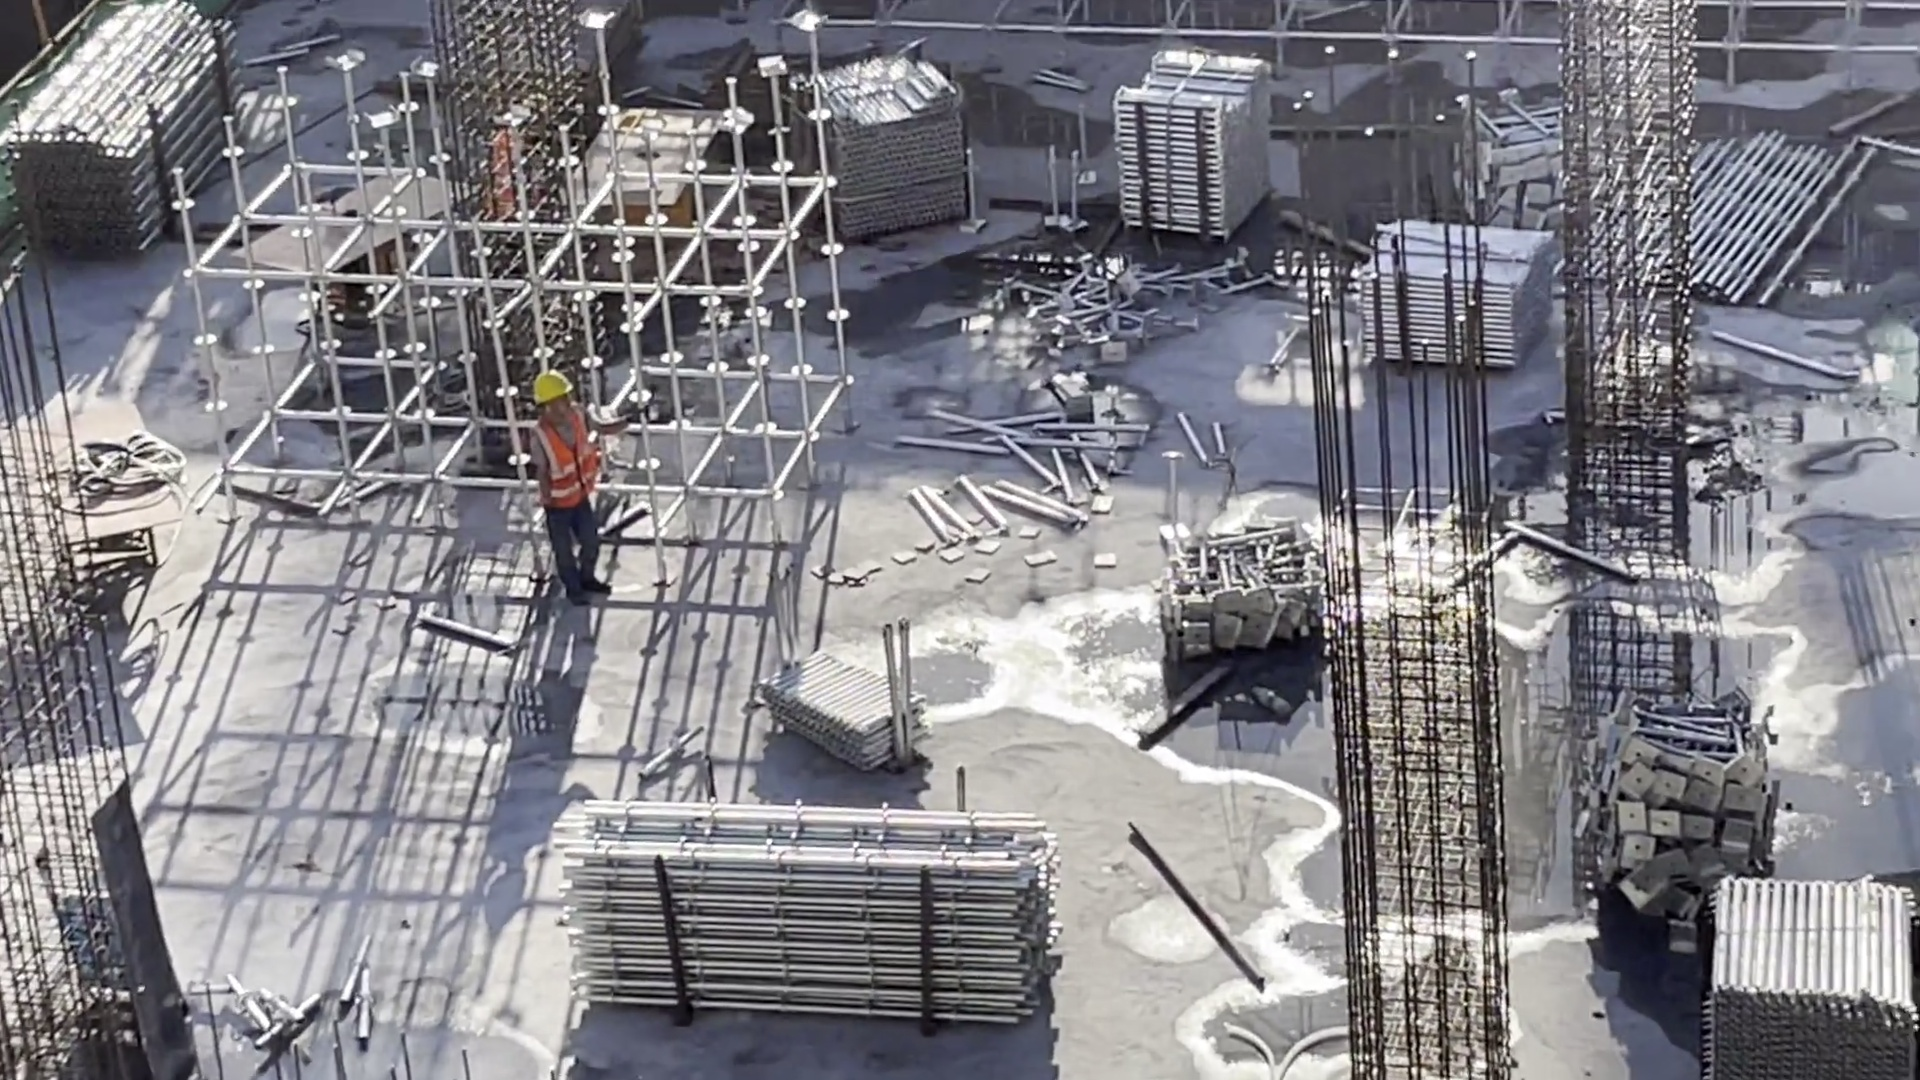cutter: (229, 157, 460, 371), (11, 390, 226, 594), (538, 109, 723, 274)
helmet: (540, 378, 574, 408)
person: (525, 367, 617, 598)
scaffold: (575, 799, 1064, 997), (2, 1, 256, 252), (1577, 688, 1792, 914), (1701, 870, 1920, 1064), (1663, 131, 1880, 295), (792, 51, 962, 247), (1348, 232, 1568, 374), (1143, 504, 1347, 657), (1124, 47, 1285, 236), (771, 641, 934, 774), (1448, 95, 1588, 238), (1030, 256, 1211, 338)
vest: (532, 406, 600, 502)
